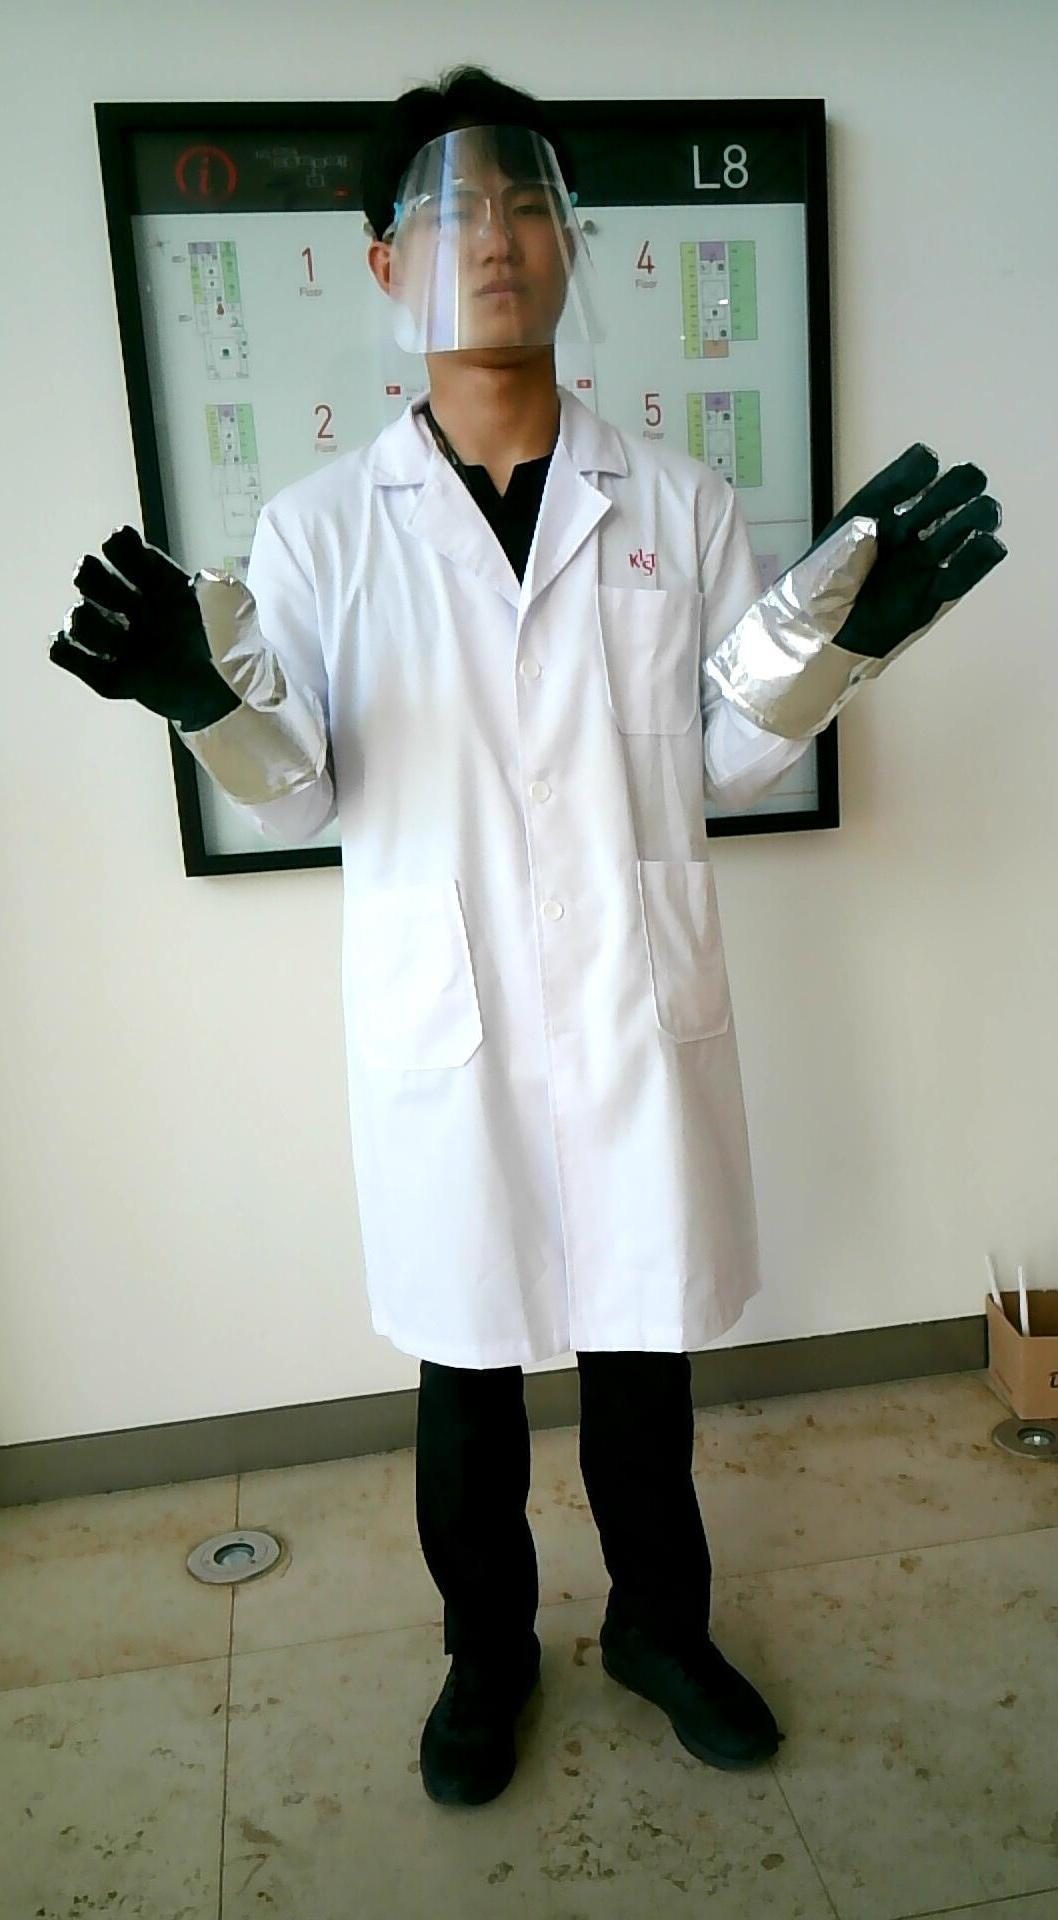lab_coat: (315, 461, 737, 1349)
